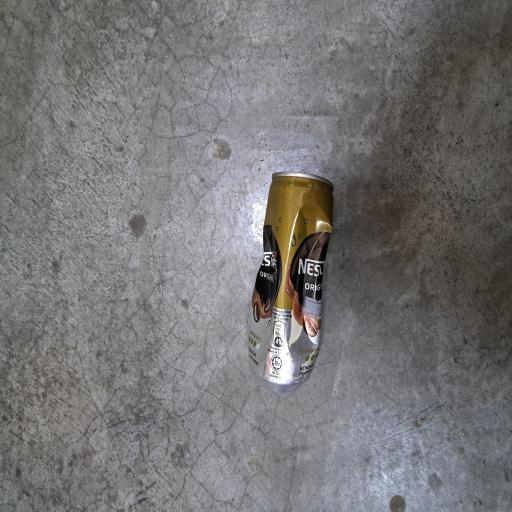can: (94, 330, 256, 445)
